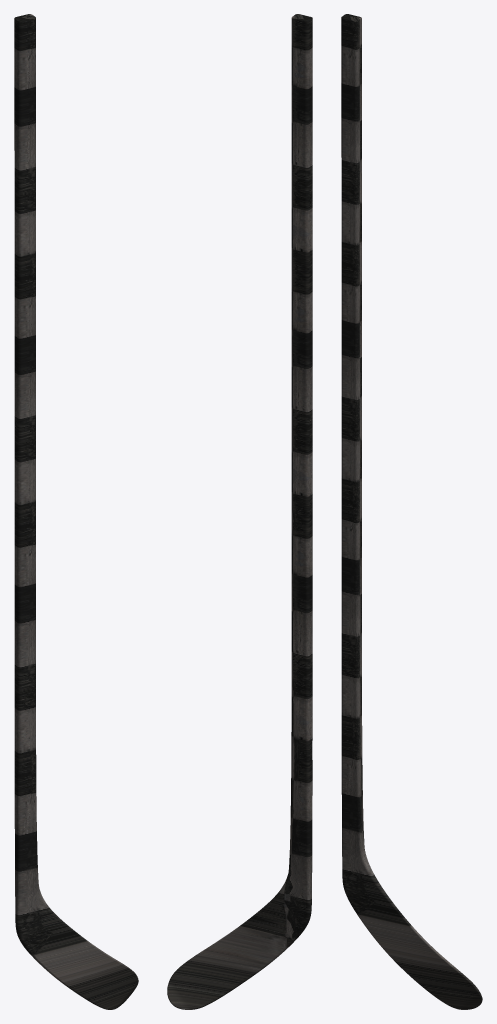
The model's file is YAK-65-ST.glb.
3 views of the same model, side by side, from view 1: azimuth 30°, elevation 25°; view 2: azimuth 150°, elevation 25°; view 3: azimuth 330°, elevation 25° (orthographic). The views are drawn at different scales.
Visible parts, largest first — view 1: geometry_0; view 2: geometry_0; view 3: geometry_0.
Boxes of the visible parts, x1,y1,x2,y2 form: geometry_0: (14,14,138,1009); geometry_0: (167,14,312,1009); geometry_0: (341,14,482,1009).
Size of the model in its own units: 225 by 1650 by 55.36.
Materials: 1 (1 with a texture image).
